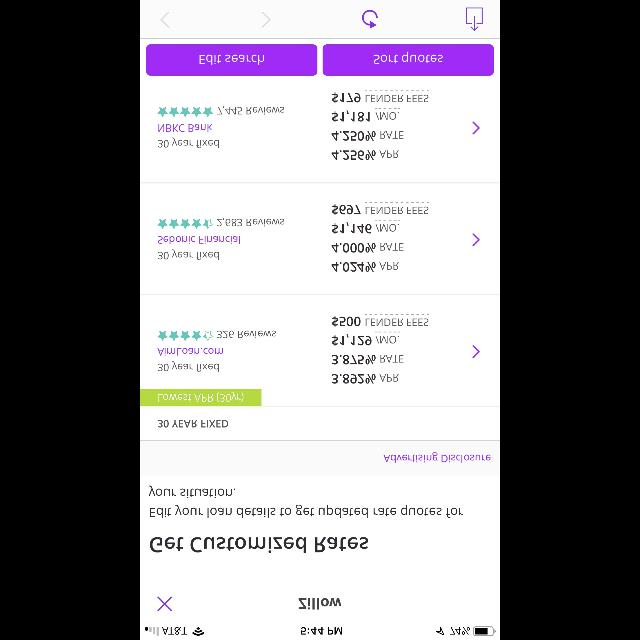icon: (158, 106, 212, 118), (158, 219, 214, 229), (158, 331, 212, 341), (466, 7, 482, 31), (362, 10, 378, 28), (158, 596, 172, 612), (160, 12, 170, 28), (261, 12, 271, 28), (472, 122, 481, 136), (472, 234, 480, 246), (472, 346, 480, 358)
text: (148, 484, 464, 518), (150, 537, 368, 553), (384, 452, 491, 462), (332, 203, 428, 214), (332, 91, 428, 102), (332, 316, 428, 326), (158, 391, 244, 401), (332, 334, 400, 346), (332, 222, 400, 234), (332, 110, 400, 122), (332, 243, 404, 253), (332, 131, 404, 141), (332, 355, 403, 365), (332, 374, 400, 384), (332, 262, 398, 272), (332, 150, 398, 160), (158, 236, 240, 244), (158, 362, 220, 372), (158, 250, 220, 260), (158, 138, 220, 148), (158, 420, 228, 428), (298, 598, 342, 610), (157, 348, 223, 356), (218, 218, 284, 226), (218, 106, 284, 114), (218, 330, 276, 338), (158, 124, 212, 132)
textbutton: (146, 44, 318, 76), (322, 44, 493, 76)
uppertaskbar: (140, 626, 500, 640)
